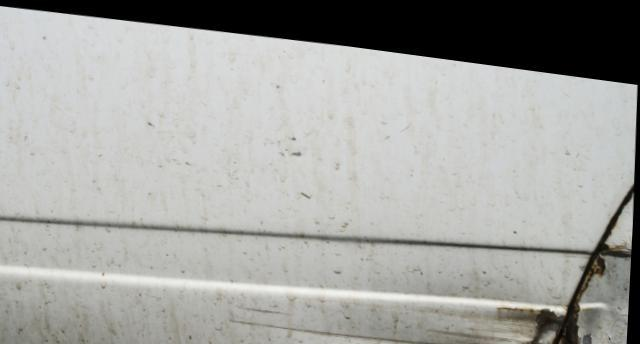dent: (554, 225, 633, 344)
scratch: (221, 284, 572, 344)
